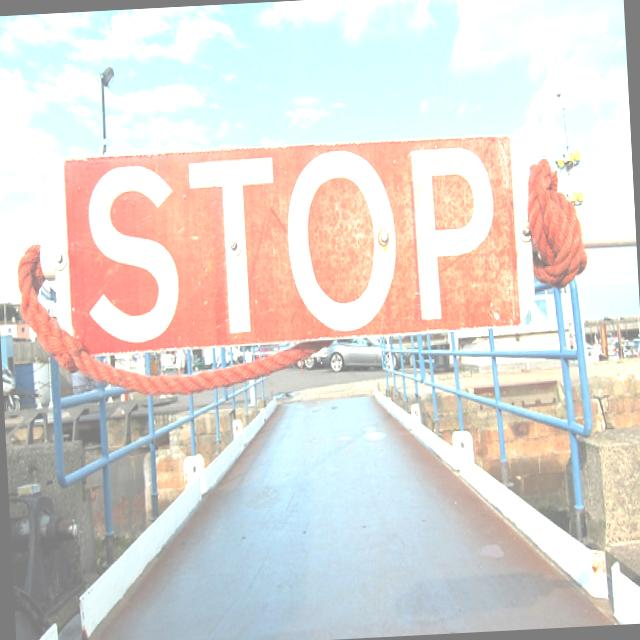Vehicle: (324, 334, 412, 374), (2, 363, 22, 418), (215, 346, 252, 366), (304, 348, 329, 372), (254, 344, 280, 360)
